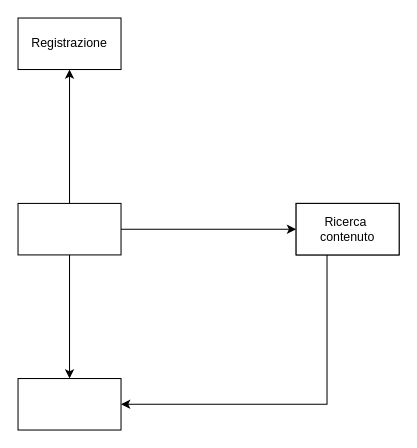
The diagram is 417 pixels wide and 448 high, and some of its shapes have lost their labels. Here are the shapes that lost their labels. From the top down, the centre of each, then its label:
(69,228): Home
(69,403): Visualizza contenuto
